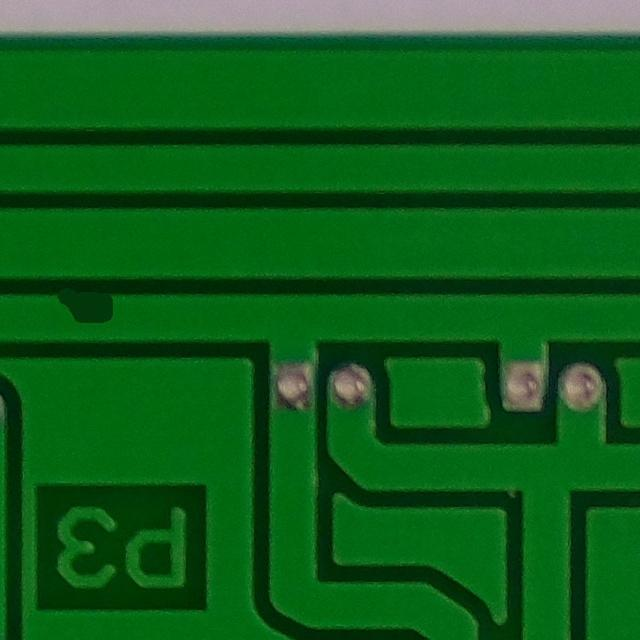mouse_bite: (39, 271, 131, 335)
